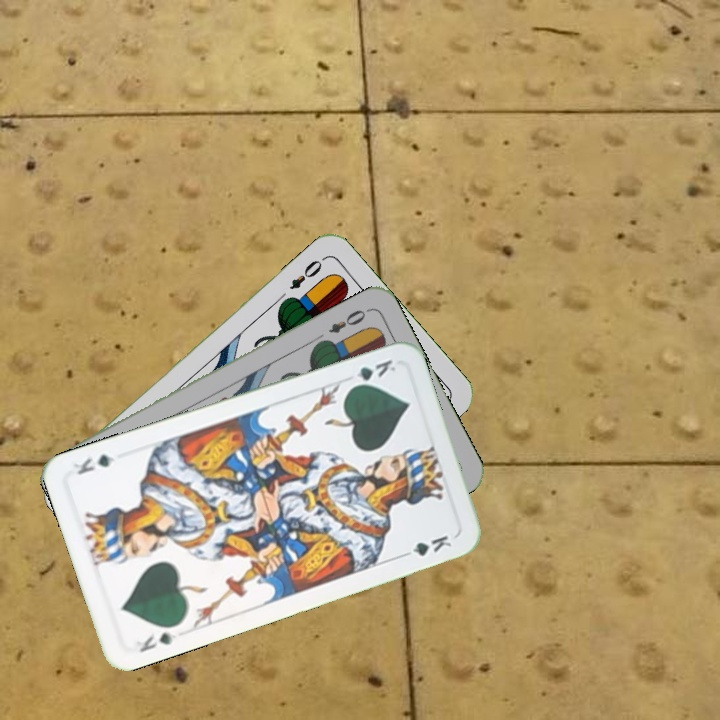EO: (285, 253, 328, 293), (324, 304, 372, 336)
GK: (345, 355, 399, 391), (132, 628, 179, 655)
